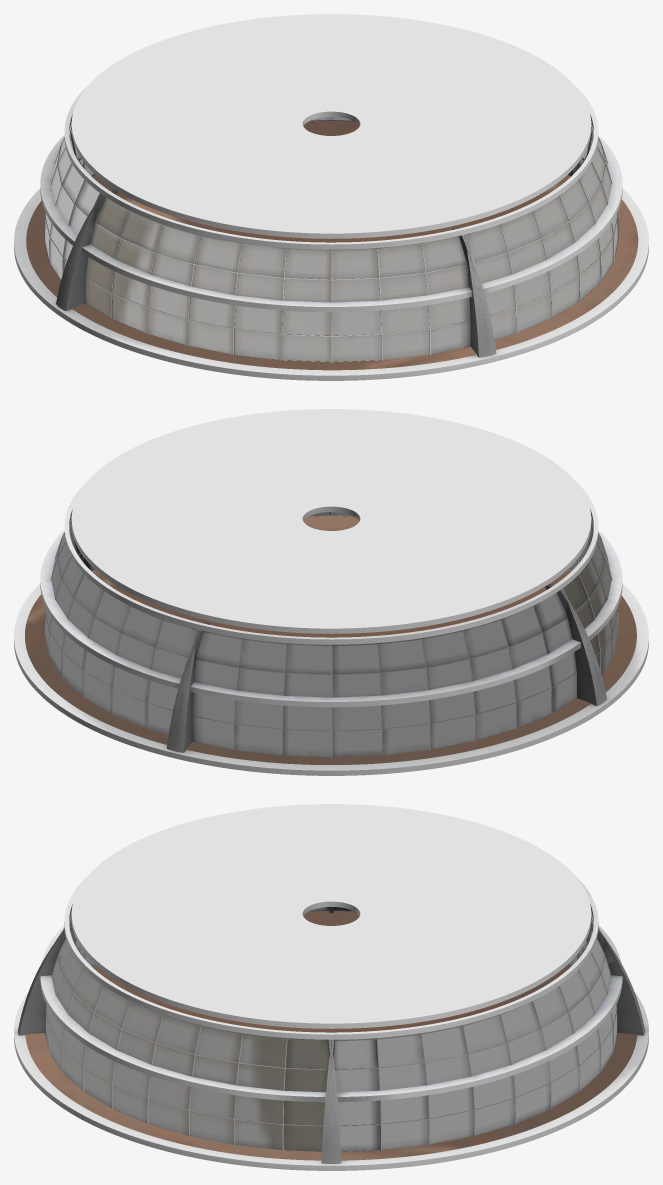
The model's file is Circular showroom-001.fbx.
The picture shows the model from 3 angles, top to bottom: view 1: azimuth 30°, elevation 25°; view 2: azimuth 150°, elevation 25°; view 3: azimuth 270°, elevation 25°; orthographic projection.
Parts seen in each view (by area): view 1: Object001; view 2: Object001; view 3: Object001.
Part boxes in pixels (x1=…): Object001: x1=14, y1=14, x2=648, y2=380; Object001: x1=14, y1=409, x2=648, y2=775; Object001: x1=14, y1=804, x2=648, y2=1170.
Size of the model in its own units: 1732 by 372 by 1732.
Materials: 1 (1 with a texture image).
